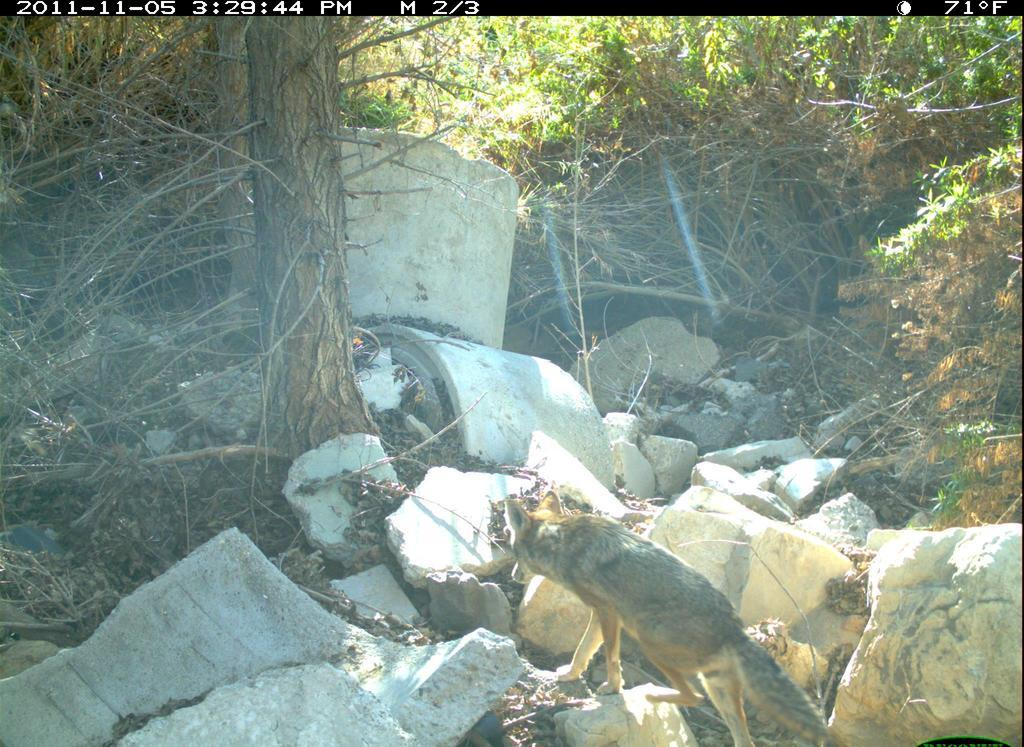coyote: (488, 491, 849, 747)
